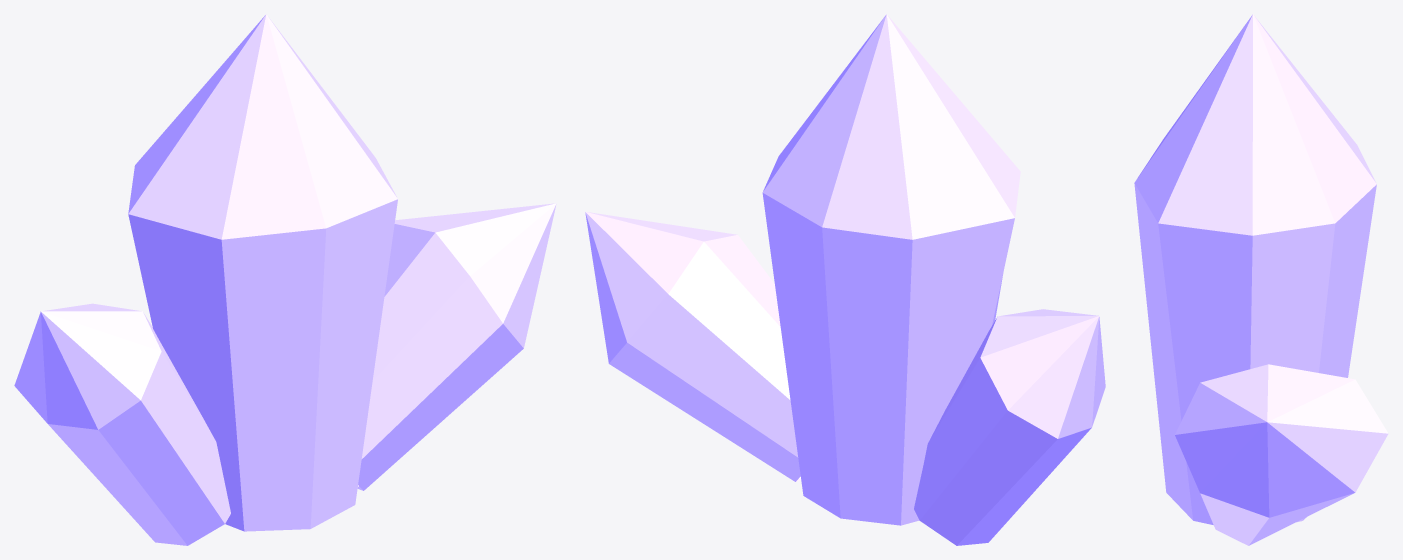
File: crystal.fbx
3 renders of one model, left to right at view 1: azimuth 30°, elevation 25°; view 2: azimuth 150°, elevation 25°; view 3: azimuth 270°, elevation 25°, orthographic.
Parts seen in each view (by area): view 1: Circle; view 2: Circle; view 3: Circle.
Part boxes in pixels (x1,y1,x2,y2): Circle: (14, 14, 556, 545); Circle: (585, 14, 1105, 545); Circle: (1134, 14, 1388, 545).
Size of the model in its own units: 392 by 366 by 169.
